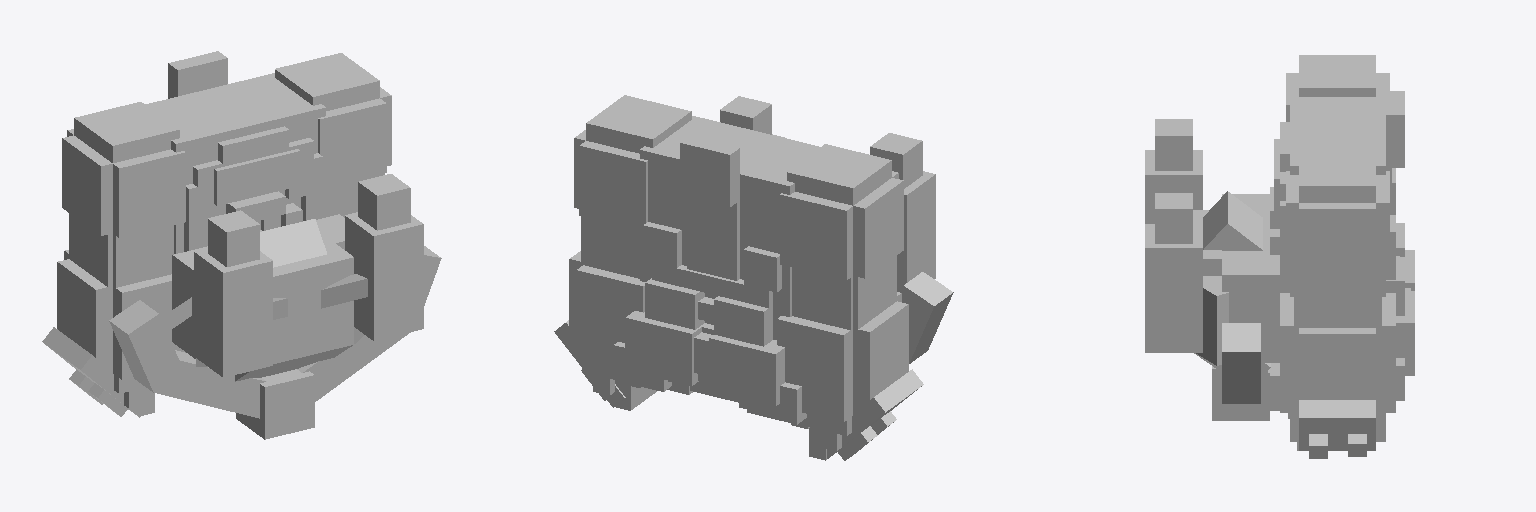
The model's file is x01_j_armor.obj.
3 renders of one model, left to right at view 1: azimuth 30°, elevation 25°; view 2: azimuth 150°, elevation 25°; view 3: azimuth 270°, elevation 25°, orthographic.
Visible parts, largest first — view 1: Body, RightArm, LeftArm; view 2: Body, RightArm, LeftArm; view 3: Body, LeftArm, RightArm.
Boxes of the visible parts, <box> form: Body: <box>109,51,441,439</box>; RightArm: <box>42,102,185,417</box>; LeftArm: <box>275,53,391,217</box>; Body: <box>613,96,953,428</box>; RightArm: <box>777,144,923,460</box>; LeftArm: <box>554,95,691,410</box>; Body: <box>1145,91,1414,420</box>; LeftArm: <box>1280,153,1395,458</box>; RightArm: <box>1286,55,1389,121</box>.
Size of the model in its own units: 19.84 by 17.5 by 14.